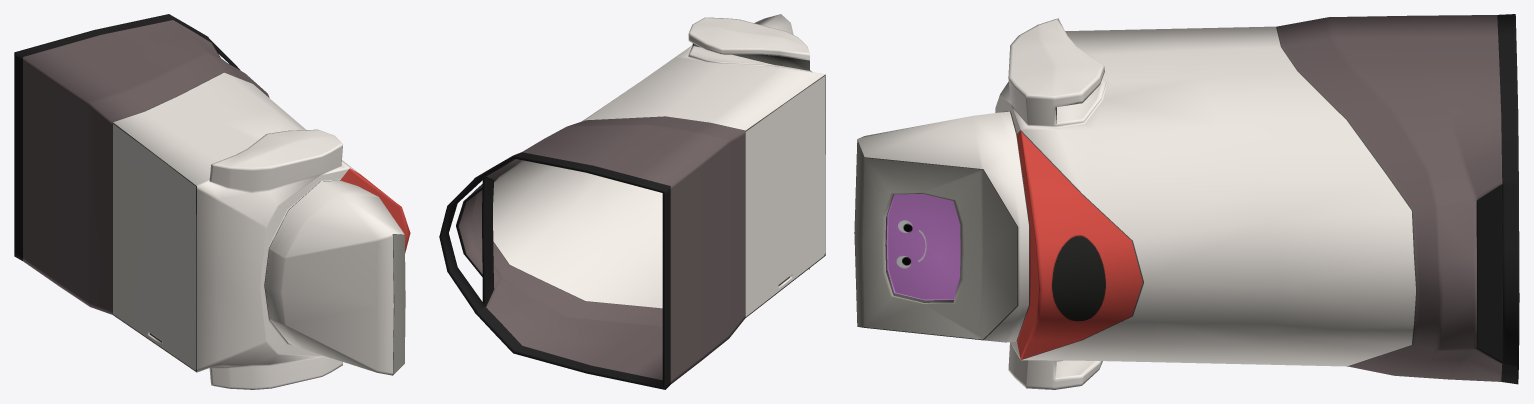
Rendered from HOSPI.obj.
3 views of the same model, side by side, from view 1: azimuth 30°, elevation 25°; view 2: azimuth 150°, elevation 25°; view 3: azimuth 270°, elevation 25° (orthographic). The views are drawn at different scales.
Parts seen in each view (by area): view 1: HOSPI_Cube.002; view 2: HOSPI_Cube.002; view 3: HOSPI_Cube.002.
Part boxes in pixels (box(x1,y1,x2,y2)): HOSPI_Cube.002: box(14, 14, 410, 389); HOSPI_Cube.002: box(439, 14, 825, 389); HOSPI_Cube.002: box(854, 14, 1519, 389).
Bounding box in the file's own units: 0.7219 × 0.6821 × 1.36.
Materials: 1 (1 with a texture image).
